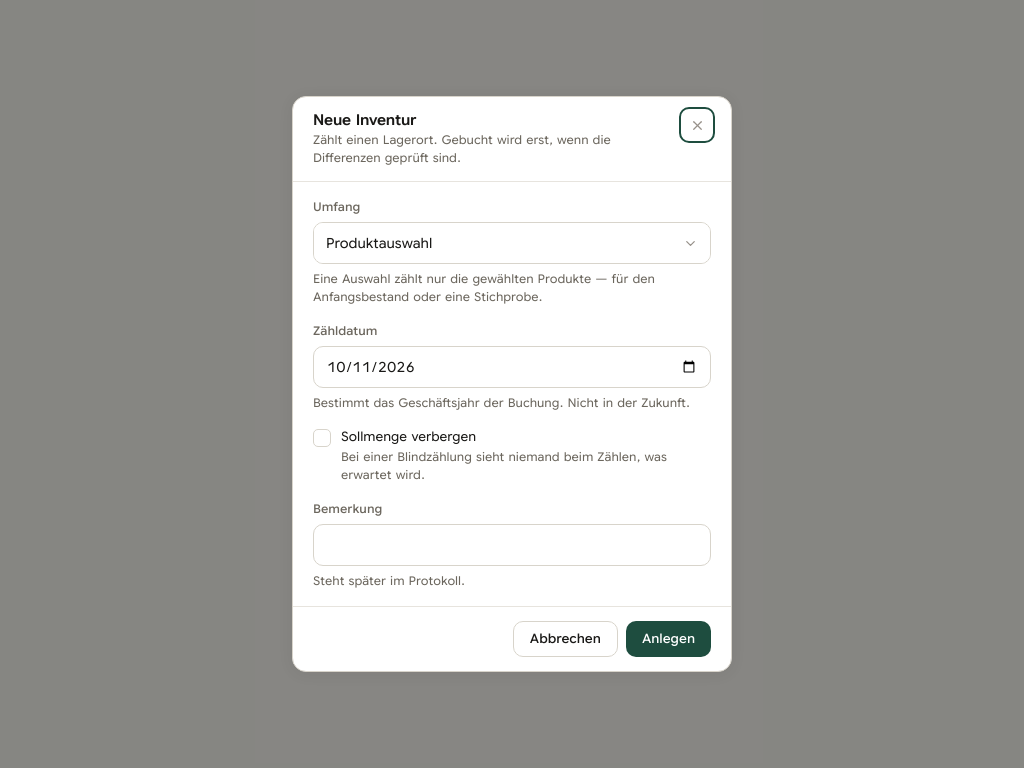
Test: NewStocktakeDialog › newStocktakeDialogRefusesASelectionWithoutAProductTest
Select "Produktauswahl" in the dropdown labelled "Umfang". click: [512, 243]
box: [314,223,710,263]
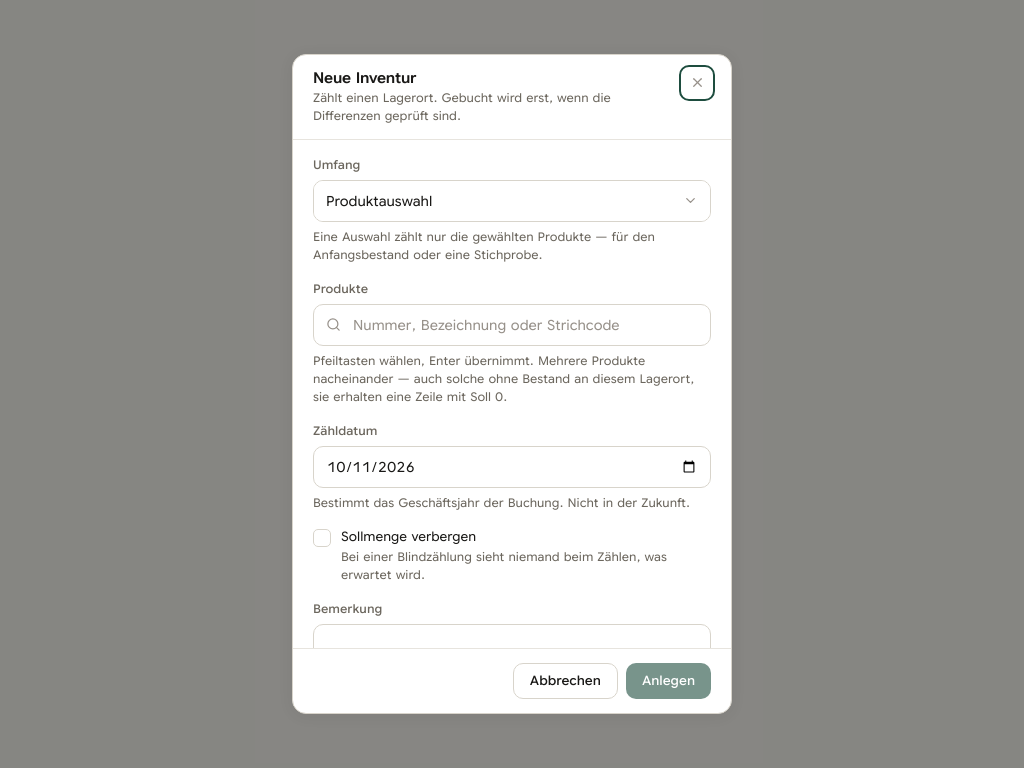
Result: the button "Anlegen" is disabled at [626,663,711,699]
